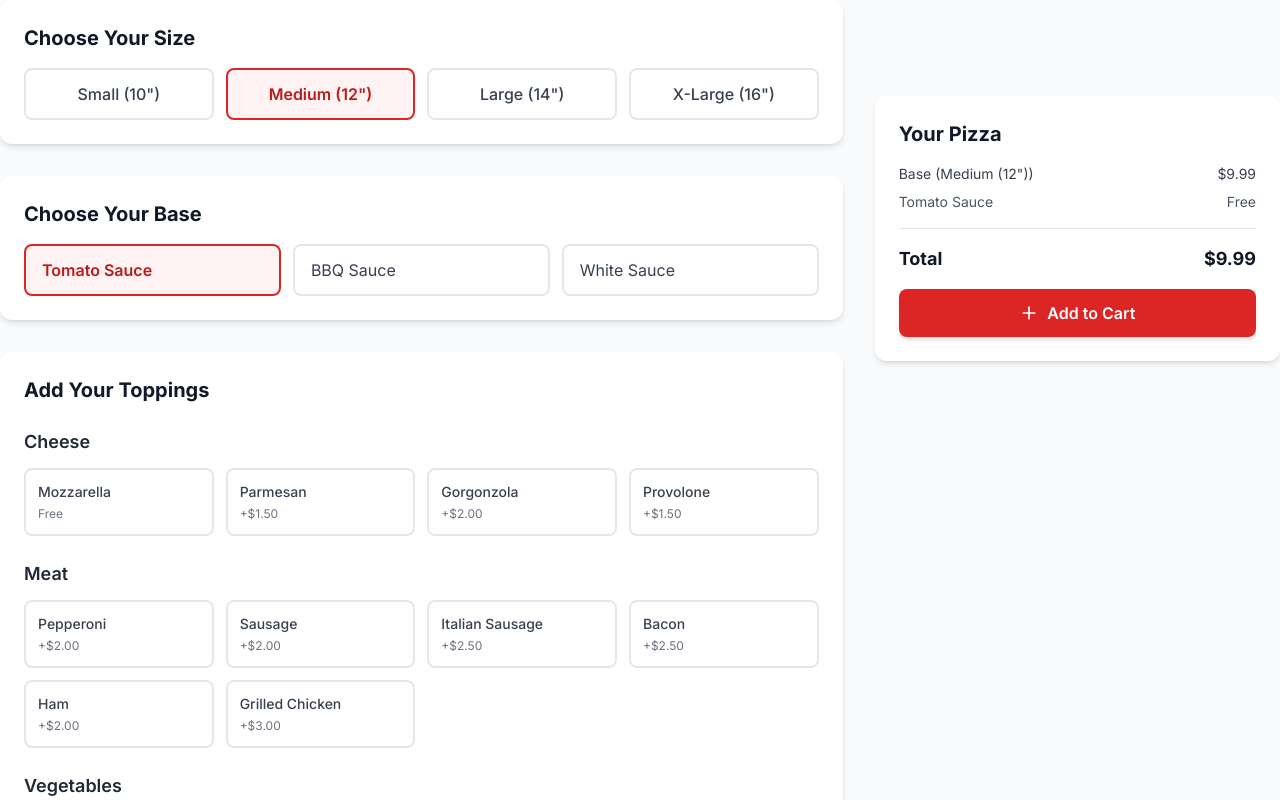
Test: PizzaBuilder › should show xlarge price correctly
Click the button "X-Large (16\")". click: [724, 94]
box: left=629, top=68, right=819, bottom=120
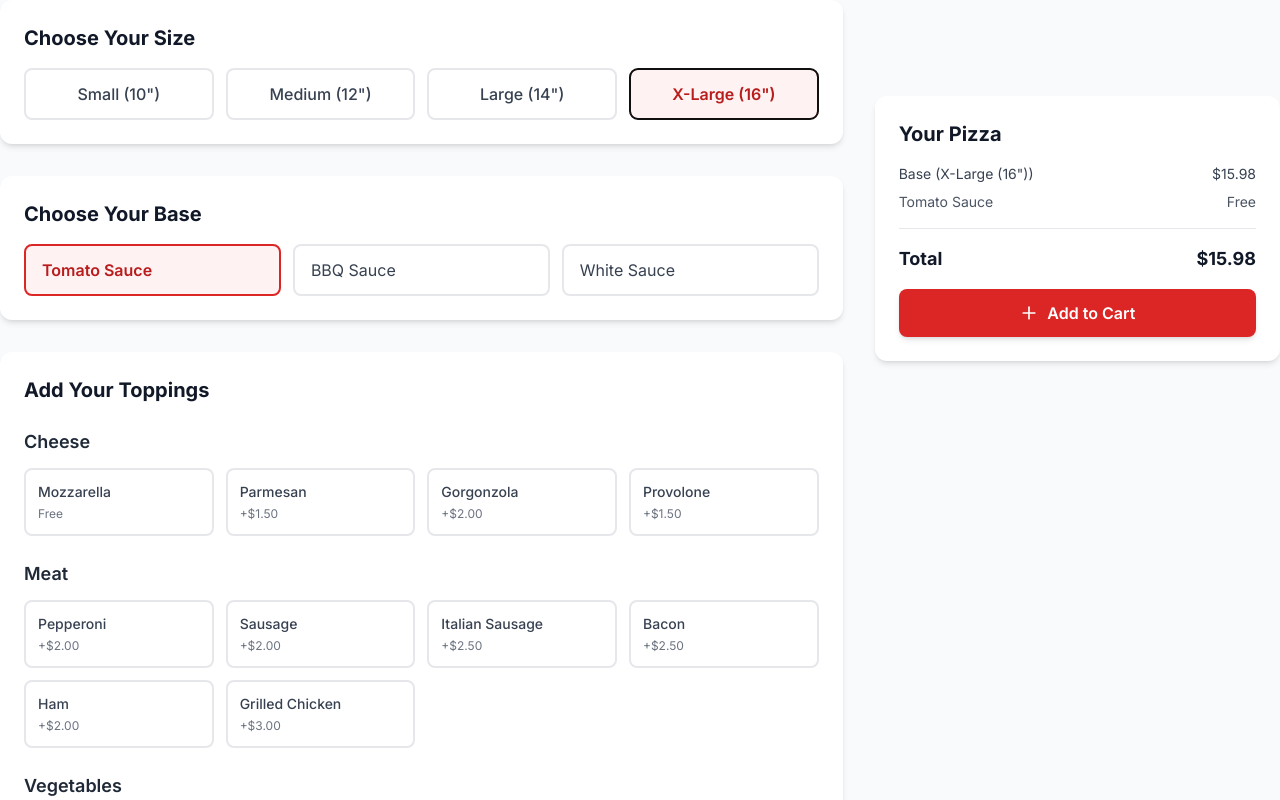
Check: the text "$15.98" in the row of "Base (" is shown, box left=1212, top=165, right=1256, bottom=182
